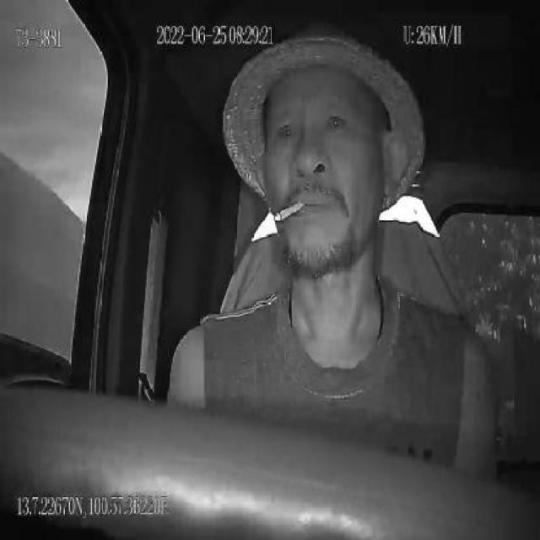smoking: (274, 199, 305, 225)
